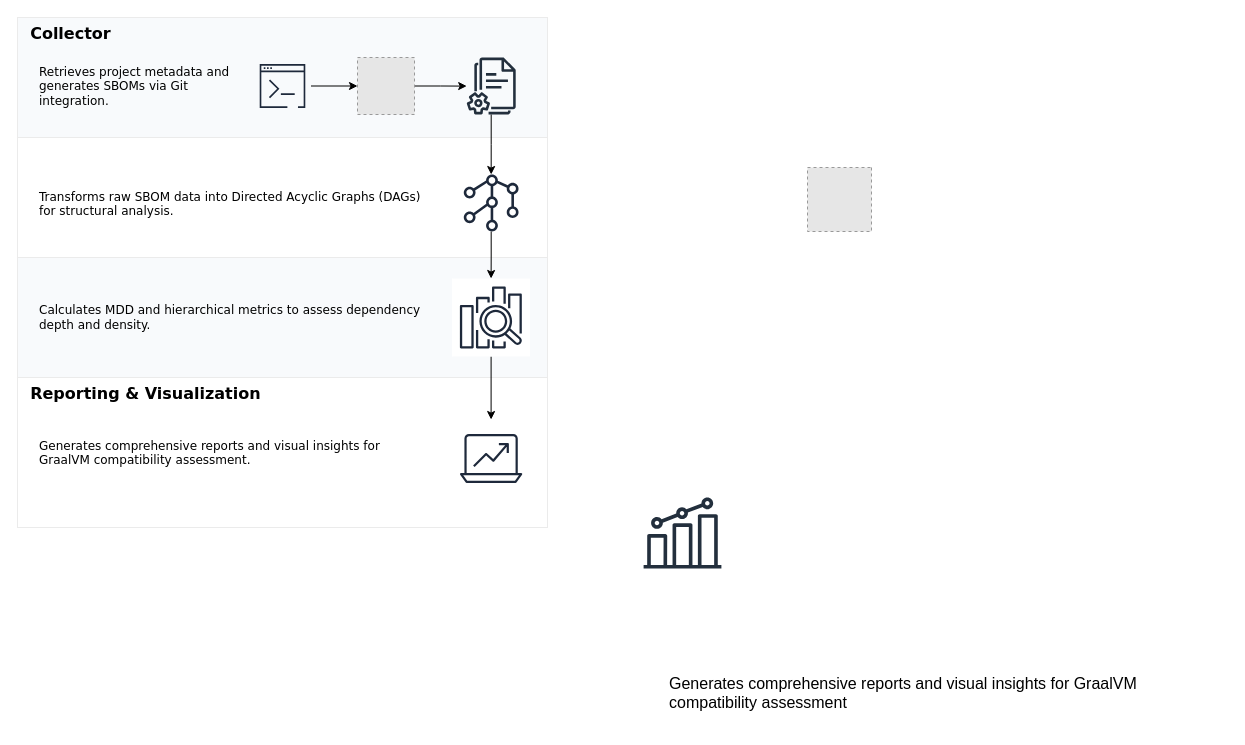
The diagram is 1245 pixels wide and 745 high, and some of its shapes have lost their labels. Grey dashed boxes stand in for pictures. The box of each missing label's shape, as (x1, y1, x2, y2) in pixels:
Analytics & Scoring: (16, 256, 548, 378)
Graph Processor: (16, 136, 548, 258)
